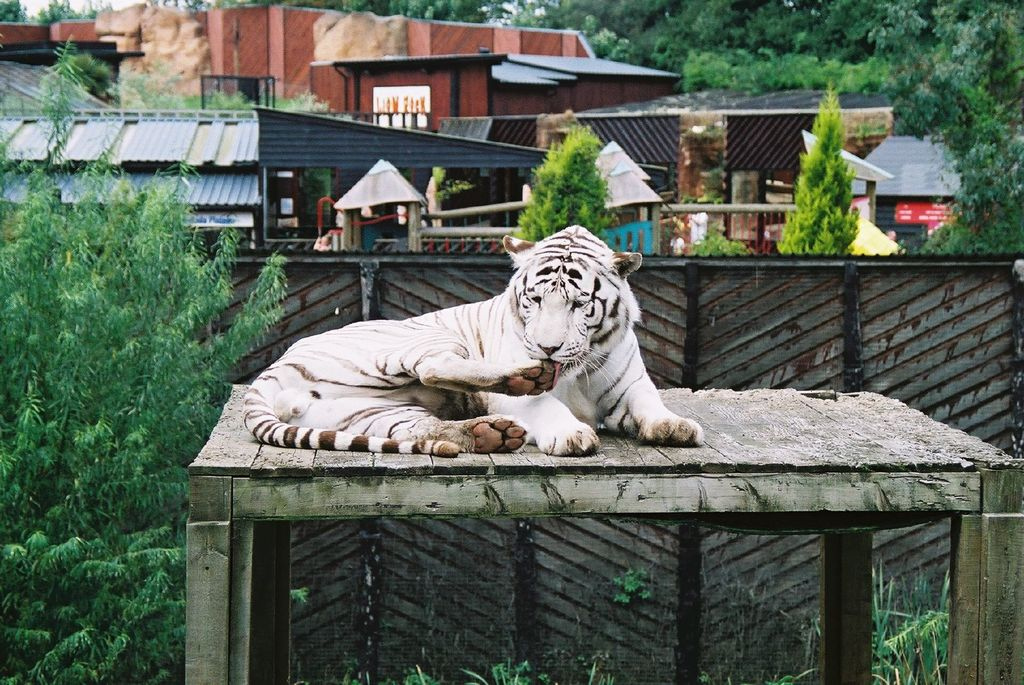Tree: (330, 0, 1023, 255), (8, 117, 247, 621), (772, 77, 863, 256), (513, 121, 609, 241), (30, 0, 78, 28), (0, 0, 30, 23)
